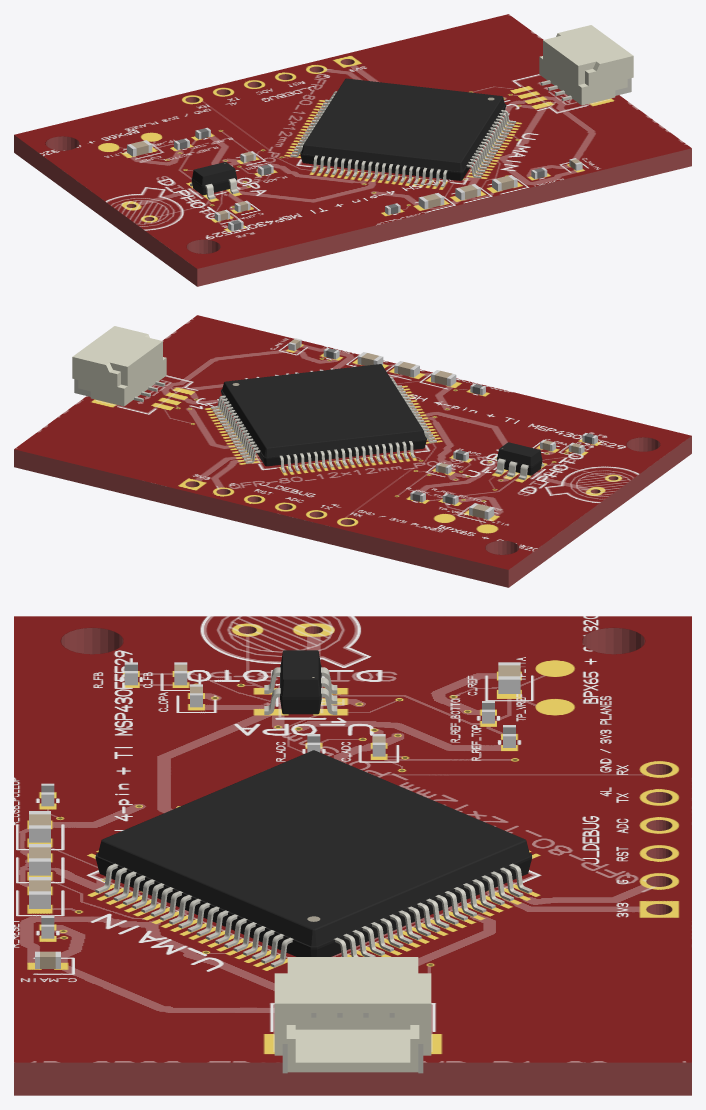
3 views of the same model, one above another, from view 1: azimuth 30°, elevation 25°; view 2: azimuth 150°, elevation 25°; view 3: azimuth 270°, elevation 25° (orthographic). The views are drawn at different scales.
Visible parts, largest first — view 1: Box0, U_MAIN, J1, U_OPA; view 2: Box0, U_MAIN, J1, U_OPA; view 3: Box0, U_MAIN, J1, U_OPA, C_REF.
Boxes of the visible parts, left/top/right/bottom form: Box0: left=14, top=14, right=691, bottom=286; U_MAIN: left=290, top=78, right=516, bottom=187; J1: left=539, top=25, right=633, bottom=105; U_OPA: left=190, top=162, right=238, bottom=199; Box0: left=14, top=315, right=691, bottom=587; U_MAIN: left=210, top=364, right=436, bottom=472; J1: left=72, top=326, right=166, bottom=406; U_OPA: left=495, top=442, right=544, bottom=480; Box0: left=14, top=616, right=691, bottom=1095; U_MAIN: left=95, top=750, right=532, bottom=967; J1: left=274, top=957, right=431, bottom=1073; U_OPA: left=264, top=650, right=337, bottom=714; C_REF: left=498, top=662, right=520, bottom=693.
Bounding box in the file's own units: 41.5 × 4.36 × 26.
10 materials, 2 textured.
